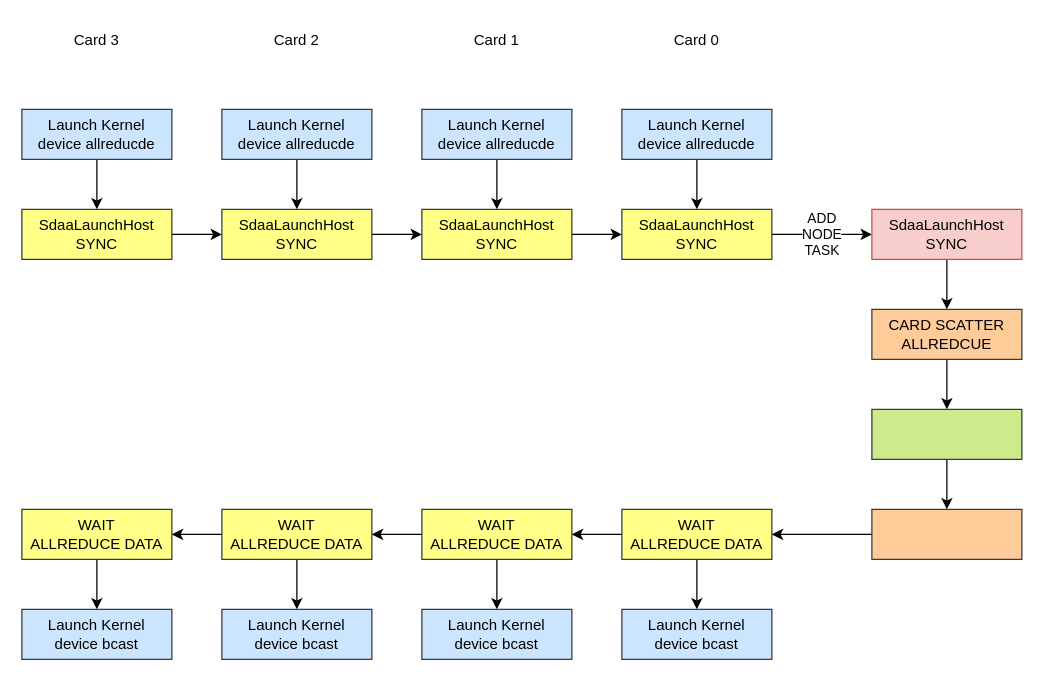
Image size: 1044x681. Some labels were removed from this diagram. Here are the shapes that lost their labels. From the top down, the centre of each, then its label:
At pixel 946 433: "HOST SCATTER ALLREDCUE".
At pixel 946 533: "CARD ALLGATHER".
